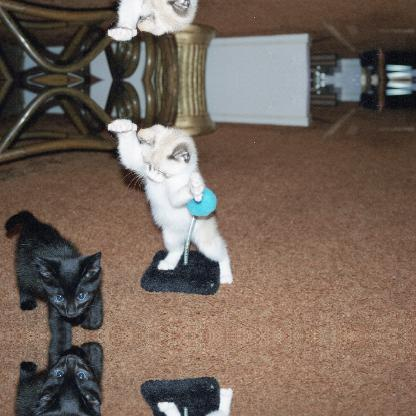Cat: (106, 118, 232, 282), (7, 206, 105, 334), (7, 336, 106, 415), (106, 0, 233, 41)
